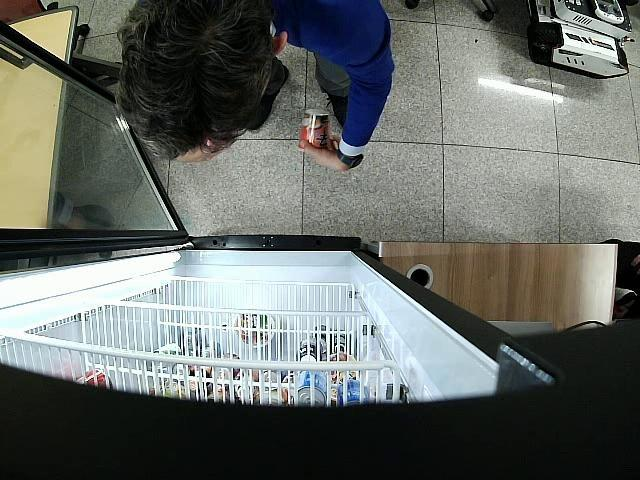02_shinRamen_S: (300, 107, 331, 150)
